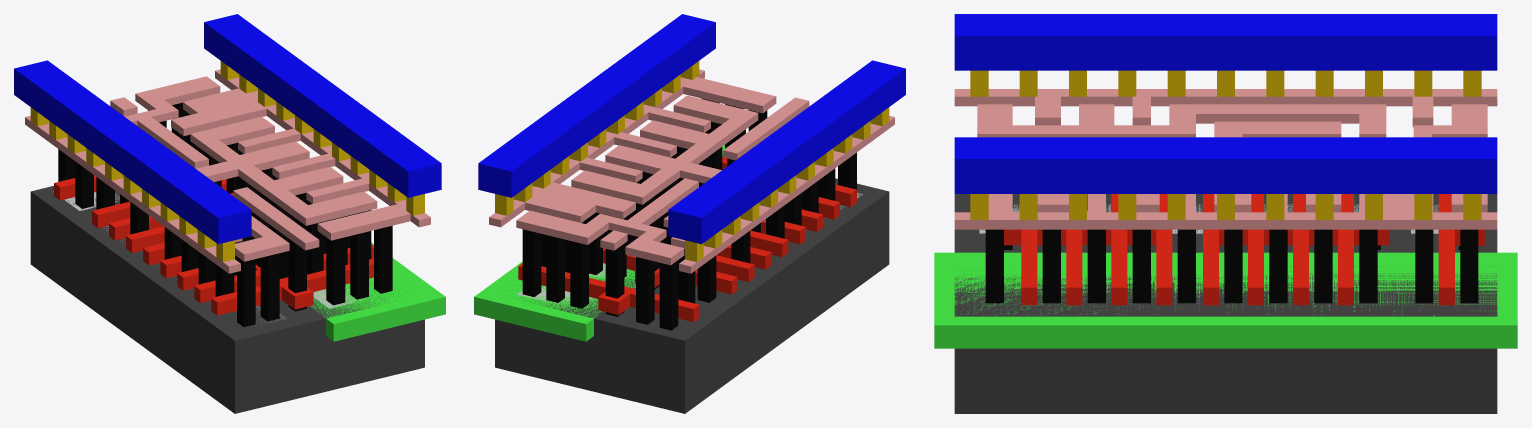
Rendered from sky130_fd_sc_hd__nand2b_4.obj.
3 renders of one model, left to right at view 1: azimuth 30°, elevation 25°; view 2: azimuth 150°, elevation 25°; view 3: azimuth 270°, elevation 25°, orthographic. The views are drawn at different scales.
Visible parts, largest first — view 1: subs, metal1, li, licon, poly, nwell, mcon; view 2: subs, metal1, li, licon, poly, mcon, nwell; view 3: metal1, subs, li, nwell, licon, poly, mcon.
Part boxes in pixels (box(x1,y1,x2,y2)): subs: box(30, 186, 424, 413); metal1: box(14, 14, 441, 244); li: box(25, 69, 430, 273); licon: box(58, 102, 392, 326); poly: box(54, 175, 373, 315); nwell: box(310, 242, 445, 341); mcon: box(30, 61, 424, 262); subs: box(495, 154, 889, 413); metal1: box(478, 14, 905, 244); li: box(489, 69, 894, 273); licon: box(522, 98, 856, 330); poly: box(518, 157, 856, 322); mcon: box(495, 61, 889, 262); nwell: box(474, 145, 724, 341); metal1: box(954, 14, 1497, 193); subs: box(954, 194, 1497, 413); li: box(954, 89, 1497, 229); nwell: box(934, 252, 1517, 348); licon: box(985, 229, 1478, 303); poly: box(1004, 194, 1485, 305); mcon: box(970, 70, 1481, 219).
Size of the model in its own units: 3.2 by 2.74 by 5.44.
